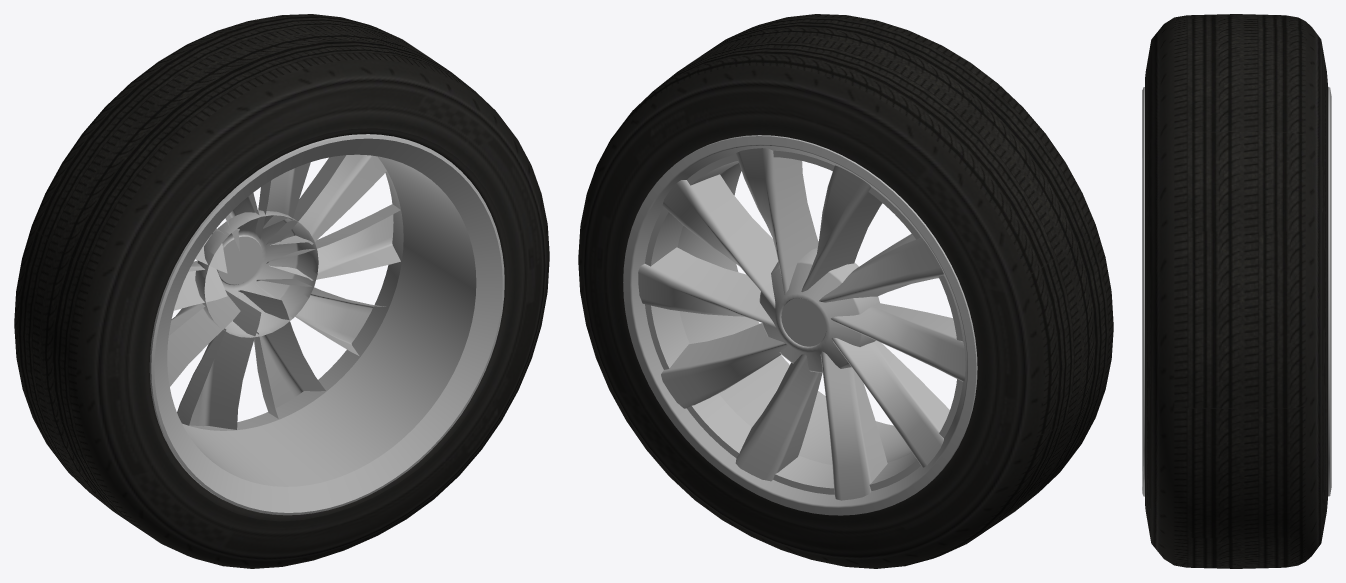
The picture shows the model from 3 angles, left to right: view 1: azimuth 30°, elevation 25°; view 2: azimuth 150°, elevation 25°; view 3: azimuth 270°, elevation 25°; orthographic projection.
Visible parts, largest first — view 1: _6139_18_901C_L__6139_18_901C_L_2_DM, _6139_18_901C_L_1_DaS__6139_18_901C_L; view 2: _6139_18_901C_L__6139_18_901C_L_2_DM, _6139_18_901C_L_1_DaS__6139_18_901C_L; view 3: _6139_18_901C_L__6139_18_901C_L_2_DM, _6139_18_901C_L_1_DaS__6139_18_901C_L.
Part boxes in pixels (x1=…): _6139_18_901C_L__6139_18_901C_L_2_DM: x1=14, y1=14, x2=549, y2=568; _6139_18_901C_L_1_DaS__6139_18_901C_L: x1=149, y1=134, x2=504, y2=515; _6139_18_901C_L__6139_18_901C_L_2_DM: x1=578, y1=14, x2=1113, y2=568; _6139_18_901C_L_1_DaS__6139_18_901C_L: x1=623, y1=135, x2=977, y2=515; _6139_18_901C_L__6139_18_901C_L_2_DM: x1=1145, y1=14, x2=1328, y2=568; _6139_18_901C_L_1_DaS__6139_18_901C_L: x1=1142, y1=87, x2=1331, y2=496.
Size of the model in its own units: 65.55 by 65.48 by 22.33.
